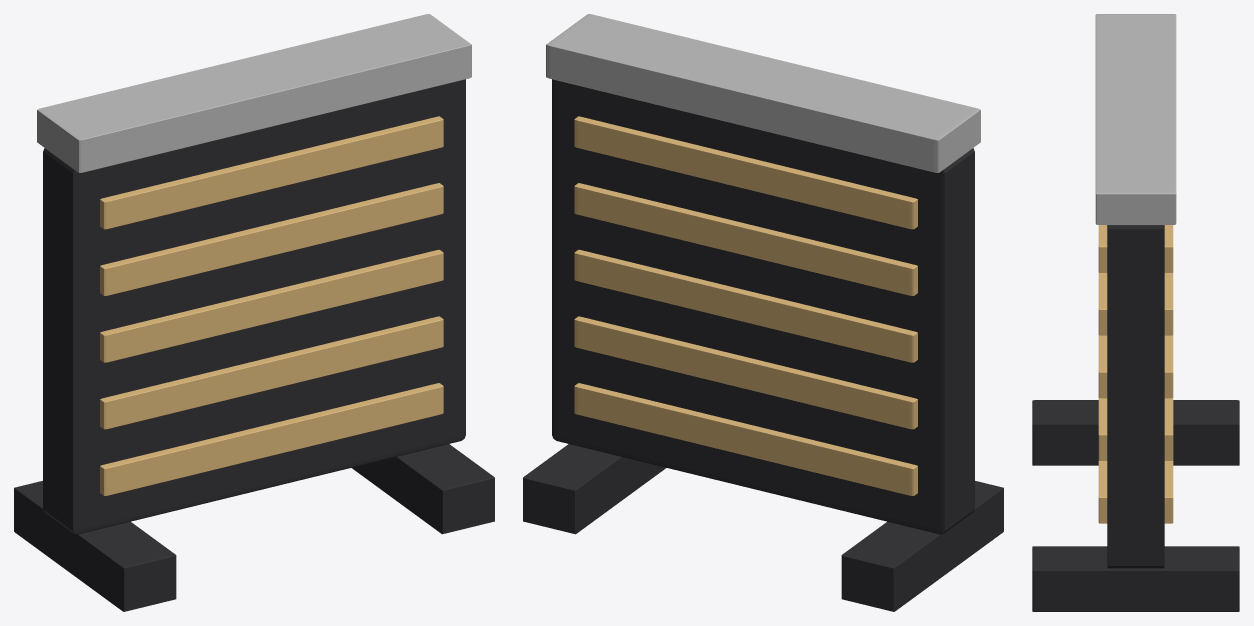
File: radiator.glb
3 views of the same model, side by side, from view 1: azimuth 30°, elevation 25°; view 2: azimuth 150°, elevation 25°; view 3: azimuth 270°, elevation 25° (orthographic). The views are drawn at different scales.
Parts seen in each view (by area): view 1: machines/radiator; view 2: machines/radiator; view 3: machines/radiator.
Part boxes in pixels (x1,y1,x2,y2): machines/radiator: (14,14,494,611); machines/radiator: (523,14,1003,611); machines/radiator: (1032,14,1239,611).
Bounding box in the file's own units: 0.74 × 0.81 × 0.36.
